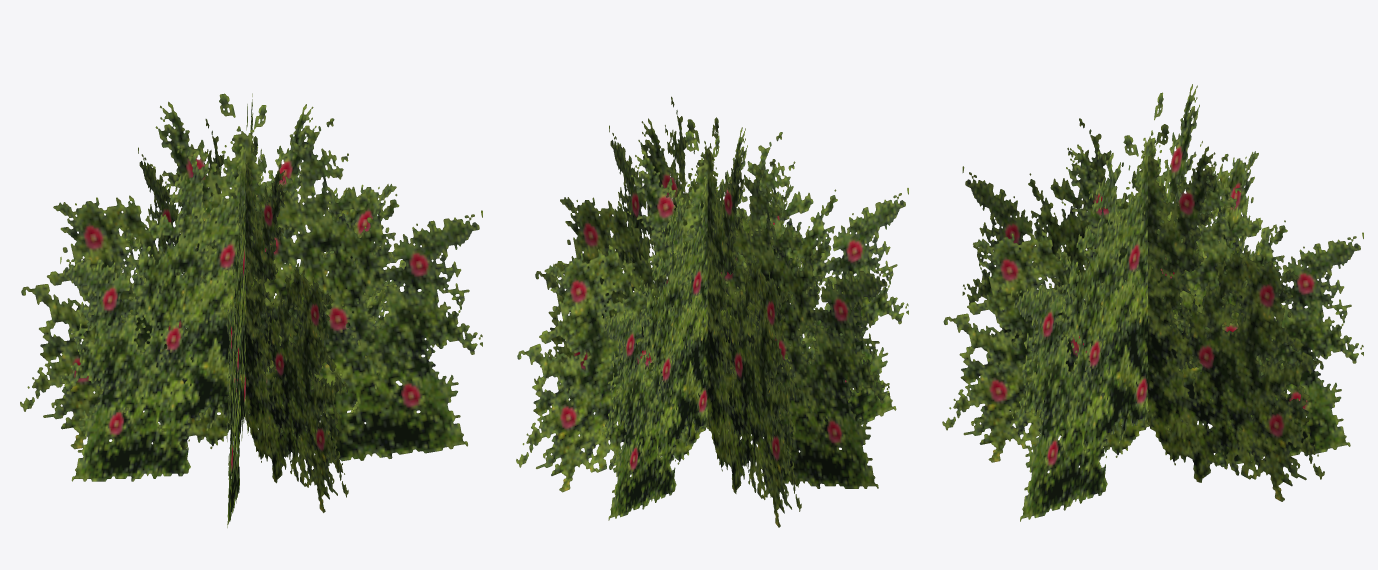
File: redFlowerBushLOW.fbx
3 renders of one model, left to right at view 1: azimuth 30°, elevation 25°; view 2: azimuth 150°, elevation 25°; view 3: azimuth 270°, elevation 25°, orthographic. The views are drawn at different scales.
Parts seen in each view (by area): view 1: redFlowerBush; view 2: redFlowerBush; view 3: redFlowerBush.
Part boxes in pixels (x1,y1,x2,y2): redFlowerBush: (20,93,482,527); redFlowerBush: (516,96,908,527); redFlowerBush: (942,84,1363,521).
Size of the model in its own units: 38.37 by 38.58 by 37.16.
Materials: 1 (1 with a texture image).
